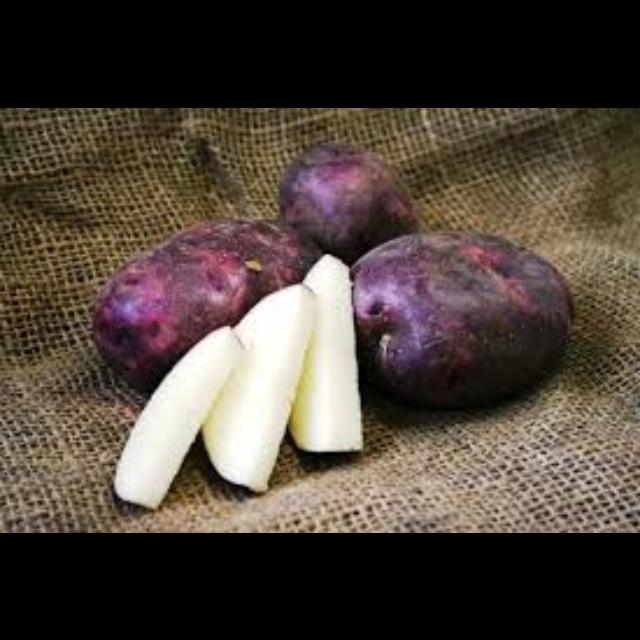Defected potato: (350, 229, 576, 416), (88, 218, 326, 382), (278, 137, 416, 256)
